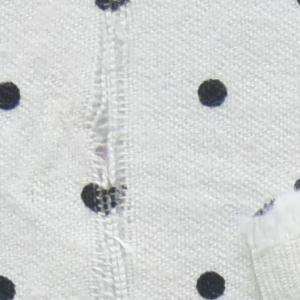Damage: (80, 1, 145, 300), (241, 175, 300, 300)
